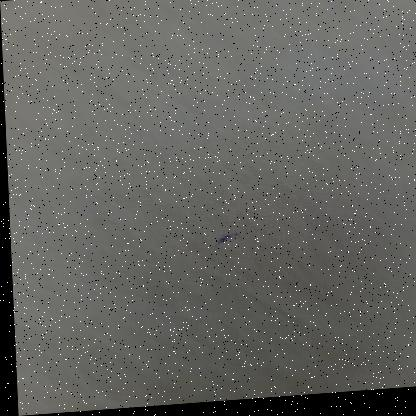spot: (207, 226, 245, 248)
